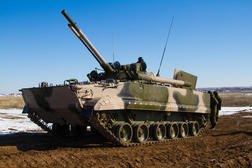bmp: (21, 9, 217, 142)
